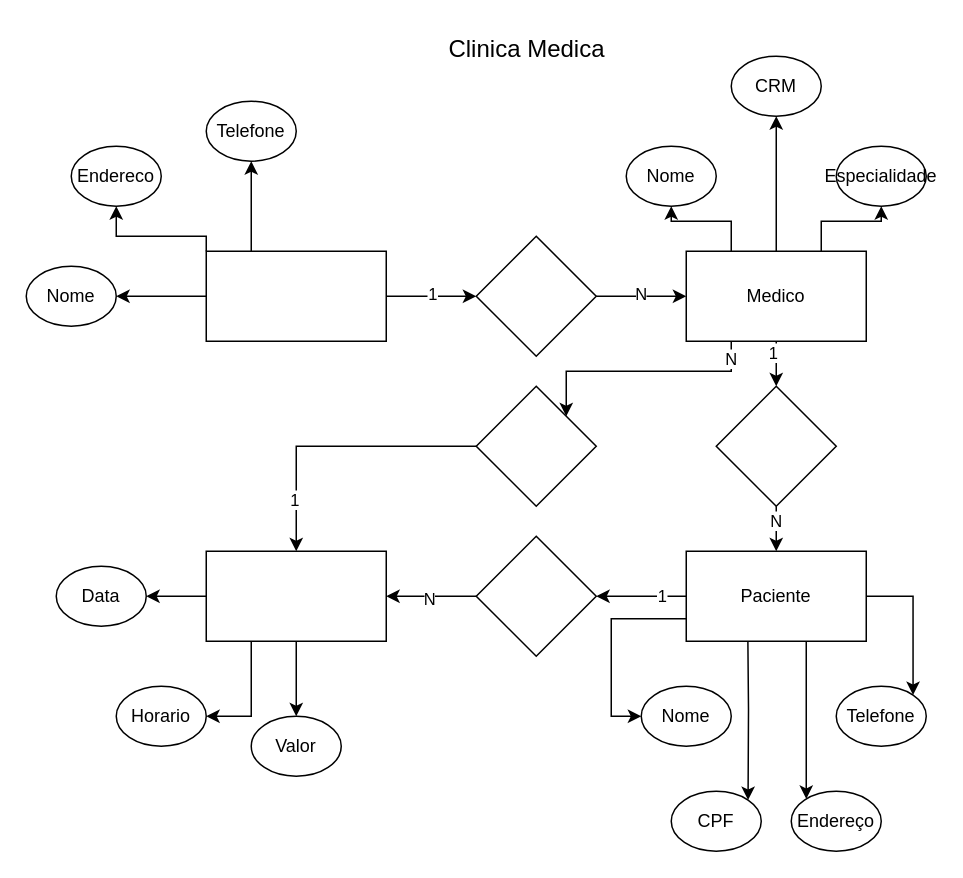
Some shapes in this 963 by 878 pixel diagram are drawn without their labels. Here are the shapes that lost their labels. From the top down, the box of each, then its label:
(205, 250, 386, 341): Clinica
(475, 235, 596, 356): Possui
(475, 385, 596, 506): Realiza
(715, 385, 836, 506): Atende
(205, 550, 386, 641): Consulta
(475, 535, 596, 656): Marca
